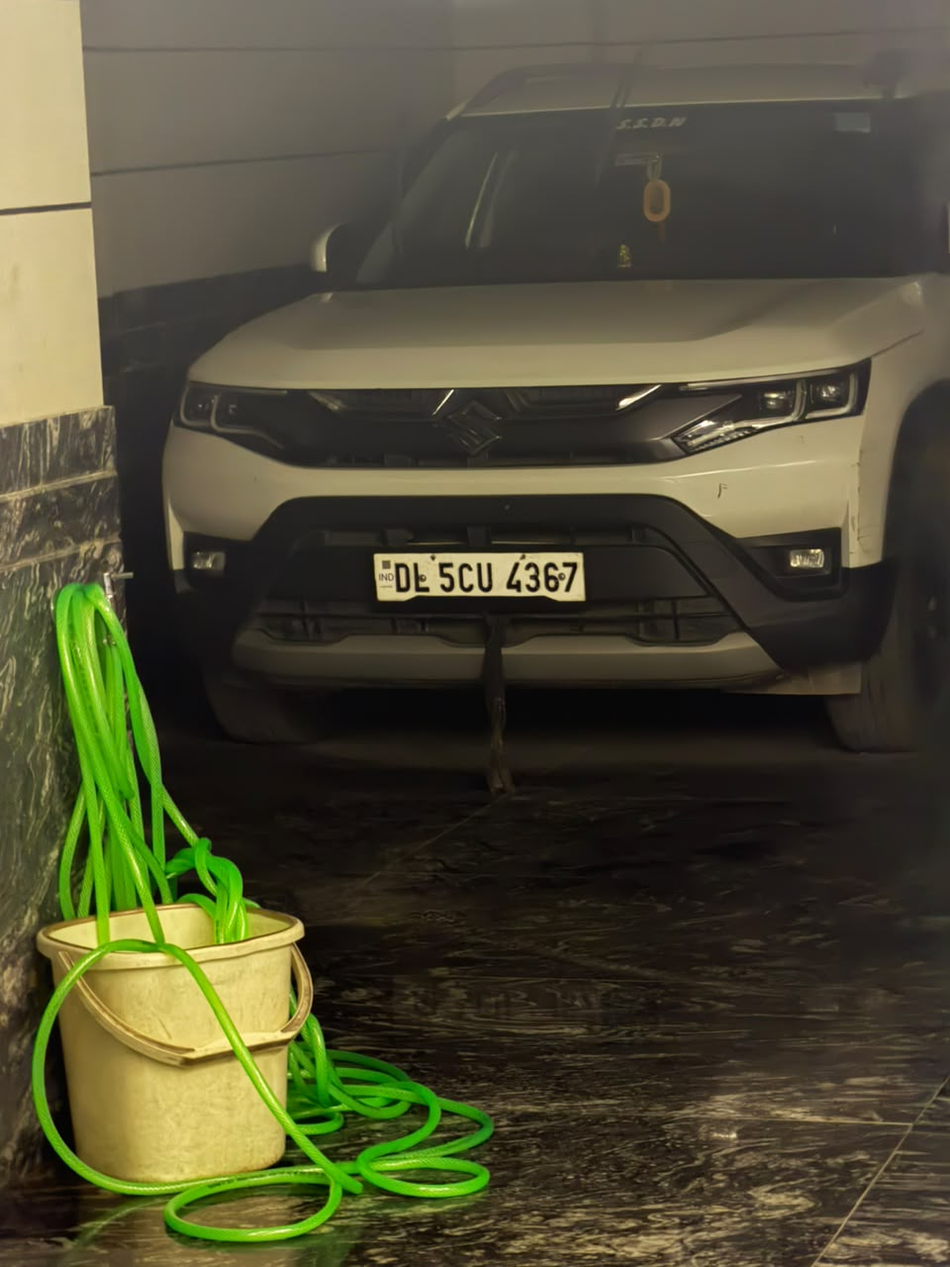vehicle: (370, 549, 584, 602)
